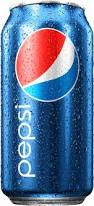pepsi: (1, 1, 94, 204)
